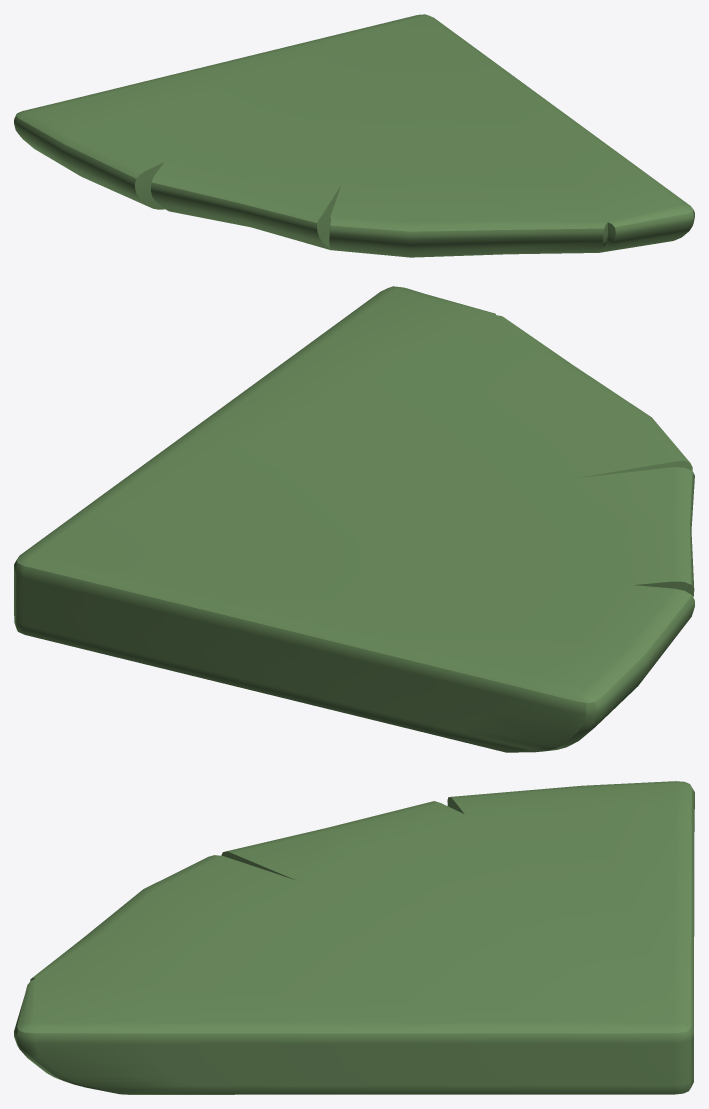
File: Mostruario_01.fbx
The picture shows the model from 3 angles, top to bottom: view 1: azimuth 30°, elevation 25°; view 2: azimuth 150°, elevation 25°; view 3: azimuth 270°, elevation 25°; orthographic projection. The views are drawn at different scales.
Visible parts, largest first — view 1: polySurface3; view 2: polySurface3; view 3: polySurface3.
Part boxes in pixels (<box>): polySurface3: <box>14,14,694,257</box>; polySurface3: <box>14,286,694,752</box>; polySurface3: <box>14,781,694,1094</box>.
Bounding box in the file's own units: 31.9 × 4.1 × 36.16.
